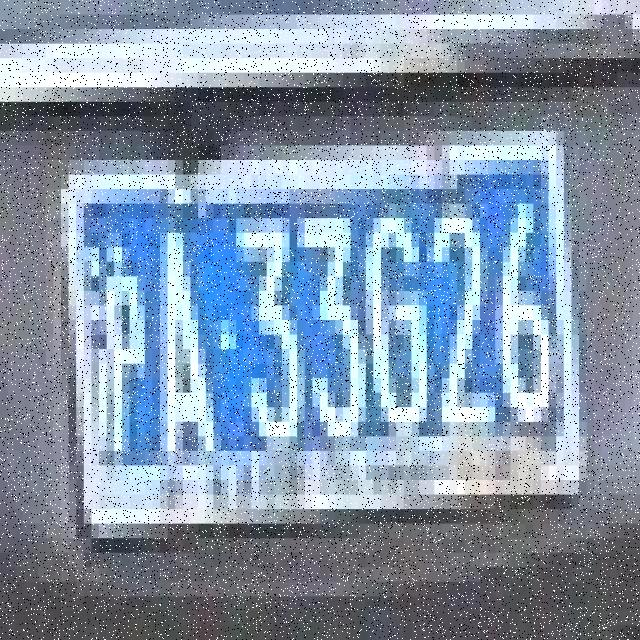licenseplate: (39, 118, 598, 530)
